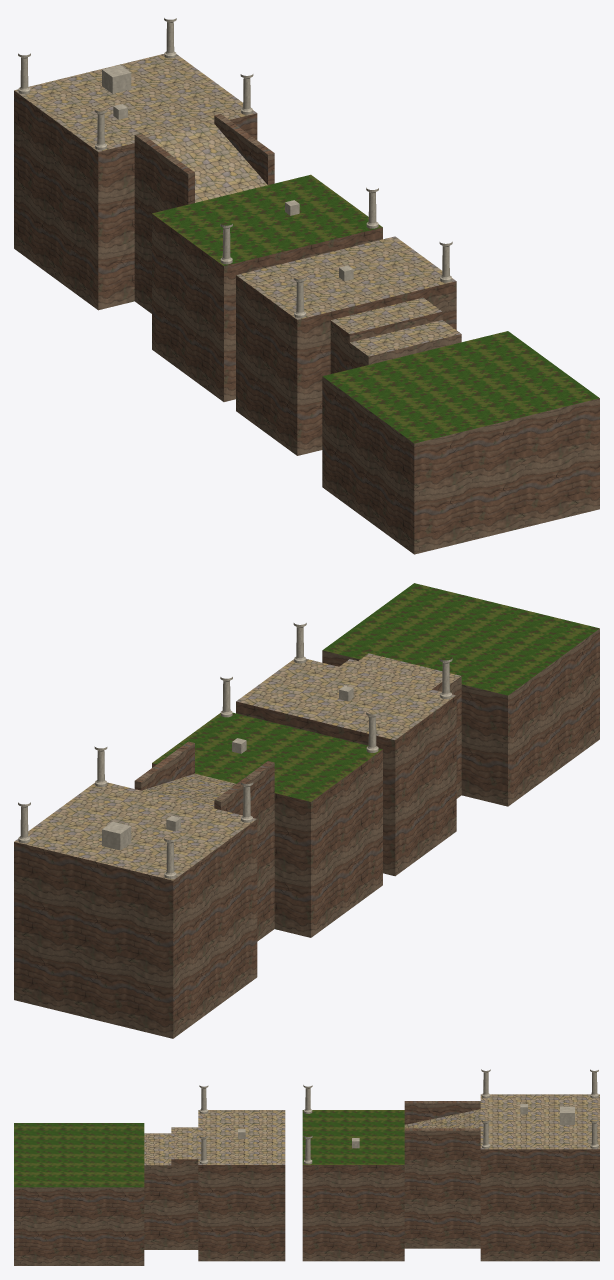
File: trail.glb
3 views of the same model, one above another, from view 1: azimuth 30°, elevation 25°; view 2: azimuth 150°, elevation 25°; view 3: azimuth 270°, elevation 25° (orthographic). The views are drawn at different scales.
Parts seen in each view (by area): view 1: Plaza, Ledge, Island, Terrace, Ramp, Step2, RampBase, Step1, RampWallL, RampWallR, Beacon; view 2: Ledge, Plaza, Island, Terrace, RampBase, Step1, Ramp, RampWallL, RampWallR, Step2, Beacon; view 3: Ledge, Plaza, Island, Terrace, RampBase, Step2, Step1, RampWallR, RampWallL, Ramp, Beacon.
Part boxes in pixels (box(x1,y1,x2,y2)): Plaza: box(322, 331, 599, 554); Ledge: box(14, 54, 257, 310); Island: box(152, 174, 382, 401); Terrace: box(236, 236, 456, 455); Ramp: box(150, 124, 267, 202); Step2: box(330, 297, 442, 373); RampBase: box(134, 165, 187, 313); Step1: box(349, 320, 461, 369); RampWallL: box(134, 133, 194, 204); RampWallR: box(214, 114, 274, 184); Beacon: box(102, 65, 131, 93); Ledge: box(14, 782, 257, 1038); Plaza: box(322, 583, 599, 806); Island: box(152, 712, 382, 937); Terrace: box(236, 659, 456, 876); RampBase: box(250, 793, 274, 941); Step1: box(358, 653, 461, 798); Ramp: box(142, 773, 236, 808); RampWallL: box(214, 761, 274, 815); RampWallR: box(134, 741, 194, 790); Step2: box(339, 659, 442, 691); Beacon: box(102, 821, 131, 850); Ledge: box(480, 1094, 599, 1261); Plaza: box(14, 1123, 144, 1265); Island: box(302, 1110, 404, 1261); Terrace: box(198, 1110, 285, 1261); RampBase: box(404, 1152, 480, 1248); Step2: box(171, 1127, 198, 1249); Step1: box(144, 1133, 171, 1249); RampWallR: box(404, 1128, 480, 1152); RampWallL: box(404, 1101, 480, 1124); Ramp: box(404, 1109, 480, 1128); Beacon: box(560, 1106, 574, 1124).
Bounding box in the file's own units: 14 × 14.2 × 54.
Materials: 4 (4 with a texture image).
